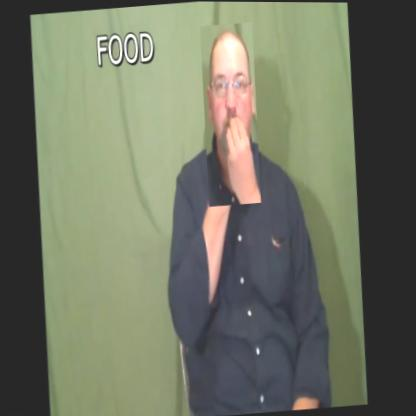Food: (196, 22, 269, 207)
